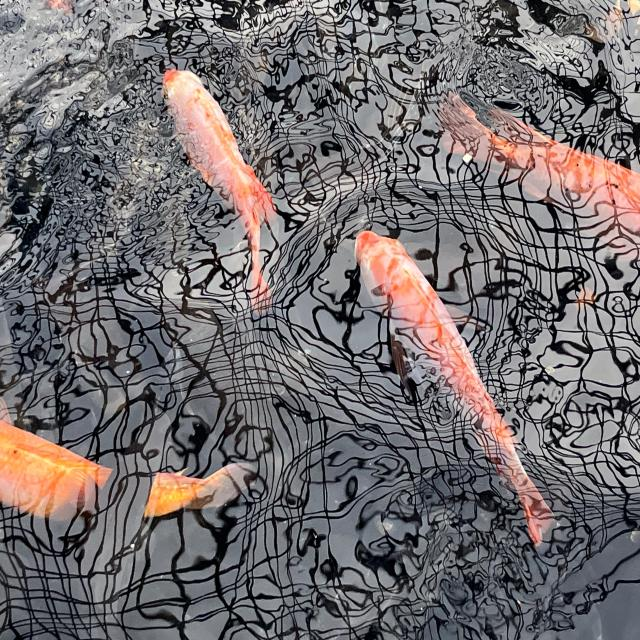ikan: (353, 228, 559, 548), (434, 86, 639, 255), (160, 67, 279, 316), (0, 419, 113, 522), (142, 461, 258, 520)
